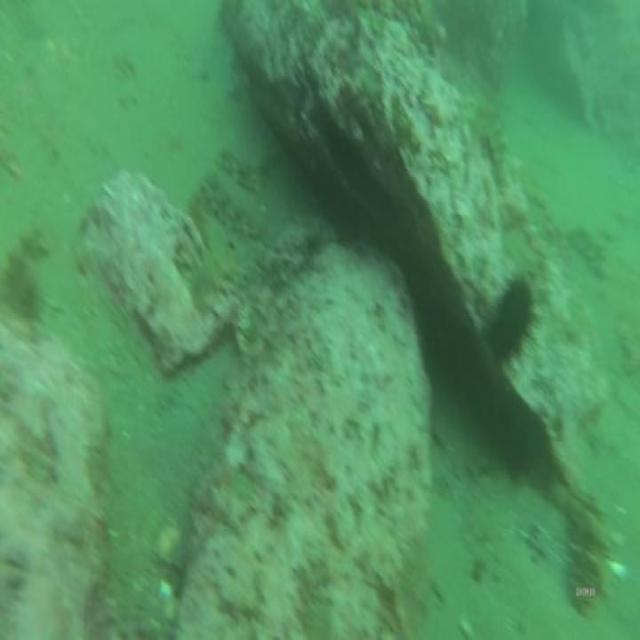echinus: (489, 272, 537, 373)
holothurian: (572, 487, 612, 616), (199, 166, 268, 232), (469, 100, 512, 188), (188, 237, 239, 308), (219, 138, 273, 186)
